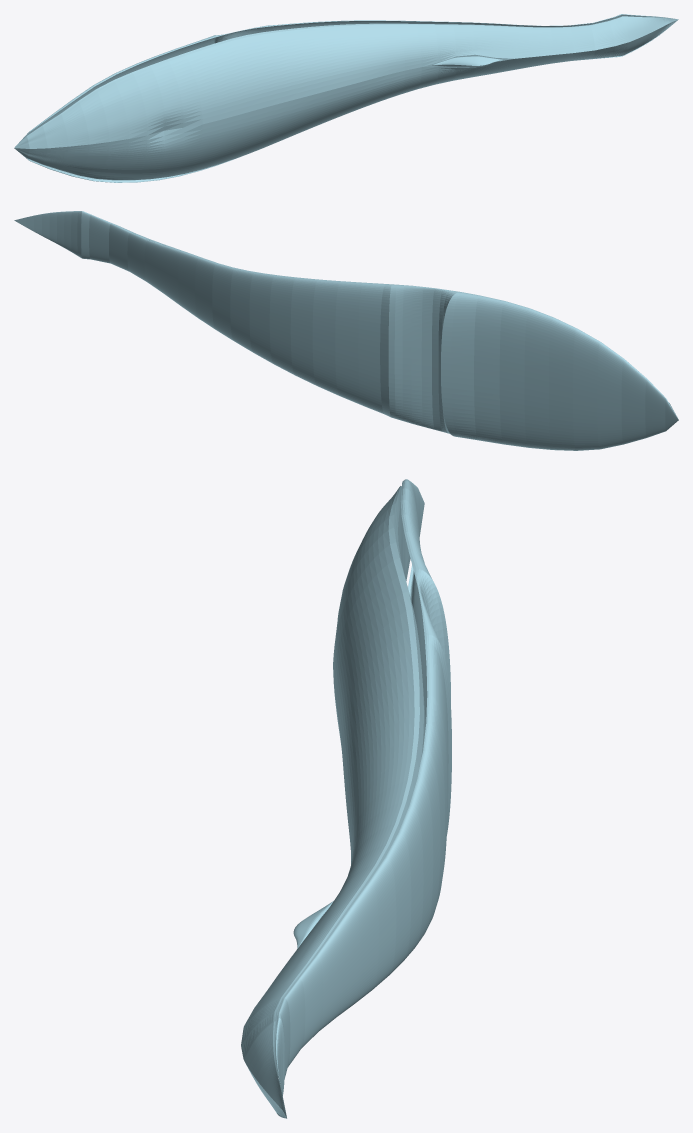
Rendered from hello.obj.
3 views of the same model, one above another, from view 1: azimuth 30°, elevation 25°; view 2: azimuth 150°, elevation 25°; view 3: azimuth 270°, elevation 25° (orthographic). The views are drawn at different scales.
Visible parts, largest first — view 1: grp1; view 2: grp1; view 3: grp1.
Part boxes in pixels (bbox=[...]): grp1: bbox=[14, 14, 678, 182]; grp1: bbox=[14, 211, 678, 450]; grp1: bbox=[241, 479, 451, 1118].
Size of the model in its own units: 6.83 by 1.34 by 0.9906.
